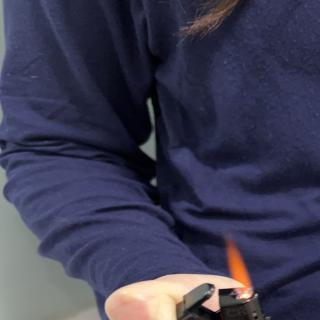fire: (225, 236, 255, 300)
